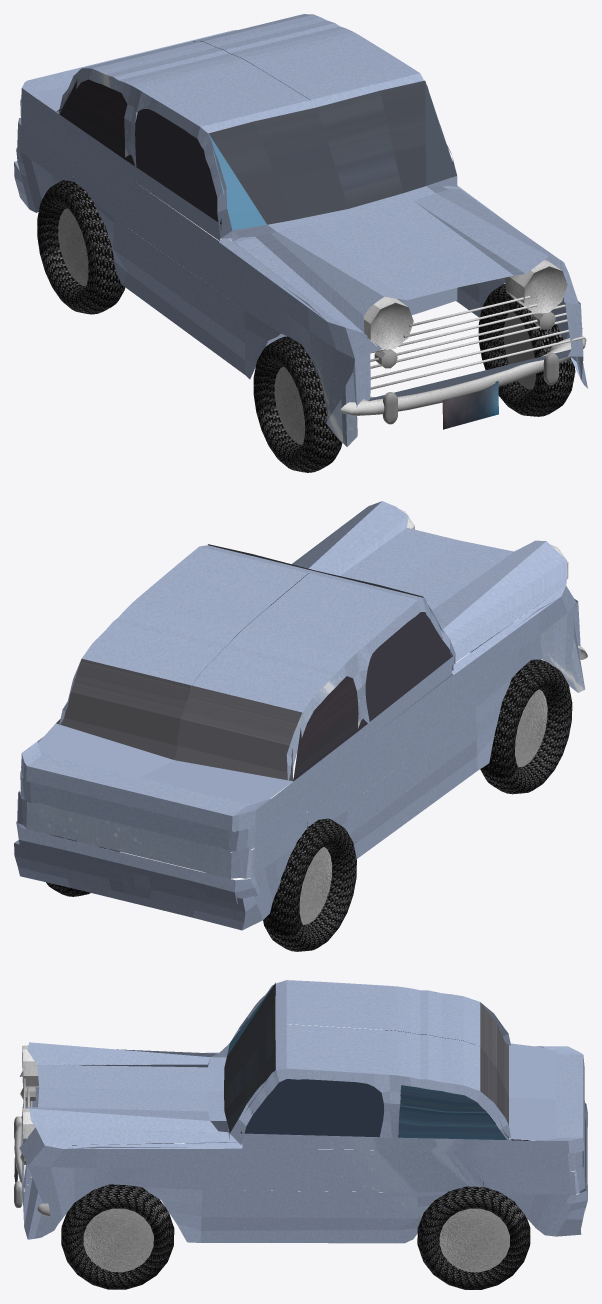
The model's file is car model.fbx.
3 views of the same model, one above another, from view 1: azimuth 30°, elevation 25°; view 2: azimuth 150°, elevation 25°; view 3: azimuth 270°, elevation 25° (orthographic). The views are drawn at different scales.
Parts seen in each view (by area): view 1: pPlane1, pTorus5, pTorus6, pTorus3, pTorus2, pCylinder6, pCylinder7, pPlane2, pCylinder18, pCylinder19, pCylinder3, pCylinder10 (+1 smaller); view 2: pPlane1, pTorus6, pTorus5, pCylinder19, pCylinder18; view 3: pPlane1, pTorus3, pTorus4, pCylinder17, pCylinder3, pCylinder7, pTorus2.
Part boxes in pixels (left/top/right/bottom): pPlane1: left=14, top=14, right=587, bottom=446; pTorus5: left=253, top=336, right=342, bottom=472; pTorus6: left=37, top=178, right=125, bottom=314; pTorus3: left=478, top=284, right=575, bottom=416; pTorus2: left=340, top=338, right=586, bottom=415; pCylinder6: left=505, top=259, right=567, bottom=313; pCylinder7: left=363, top=296, right=413, bottom=349; pPlane2: left=442, top=381, right=498, bottom=429; pCylinder18: left=274, top=366, right=304, bottom=444; pCylinder19: left=58, top=208, right=88, bottom=286; pCylinder3: left=503, top=312, right=535, bottom=389; pCylinder10: left=370, top=336, right=584, bottom=389; pPlane1: left=14, top=501, right=585, bottom=930; pTorus6: left=263, top=818, right=356, bottom=951; pTorus5: left=480, top=659, right=572, bottom=794; pCylinder19: left=299, top=847, right=332, bottom=924; pCylinder18: left=515, top=689, right=547, bottom=766; pPlane1: left=19, top=980, right=587, bottom=1243; pTorus3: left=61, top=1184, right=174, bottom=1289; pTorus4: left=417, top=1183, right=530, bottom=1289; pCylinder17: left=439, top=1208, right=509, bottom=1272; pCylinder3: left=83, top=1208, right=153, bottom=1272; pCylinder7: left=22, top=1045, right=38, bottom=1087; pTorus2: left=14, top=1116, right=50, bottom=1216.
Size of the model in its own units: 146 by 137 by 329.
